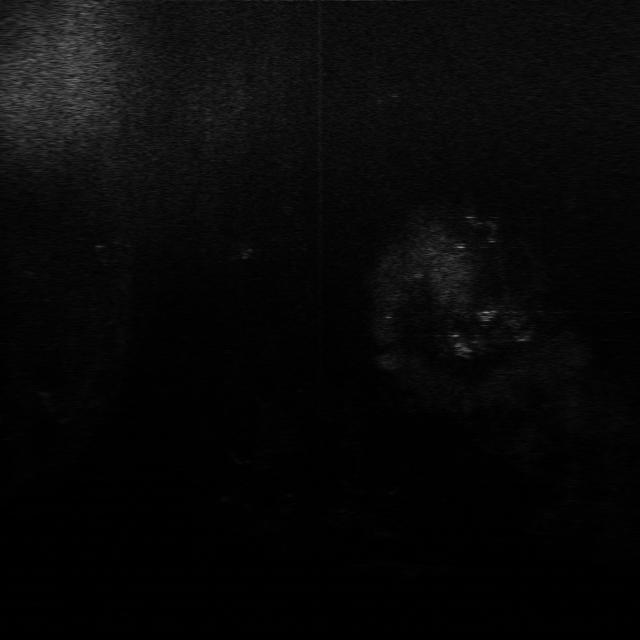rov: (474, 306, 504, 326)
